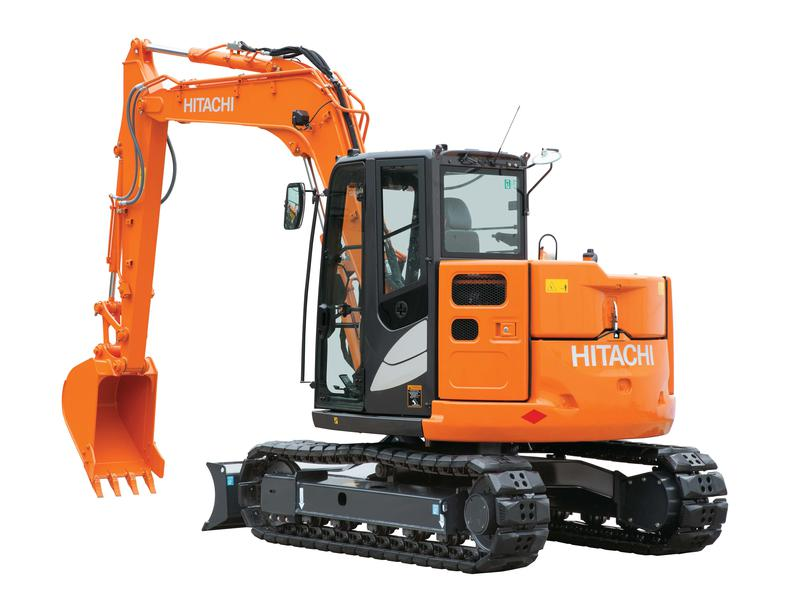shovel: (47, 31, 733, 578)
